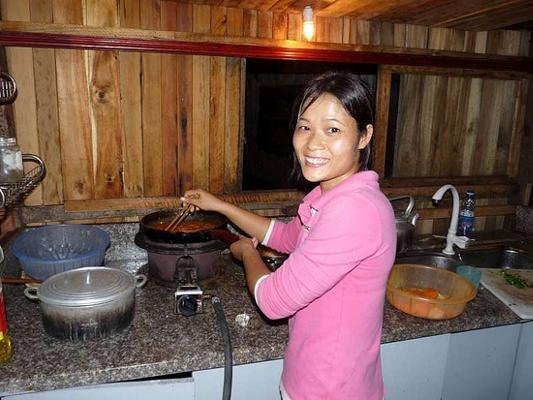person: (183, 70, 401, 400)
